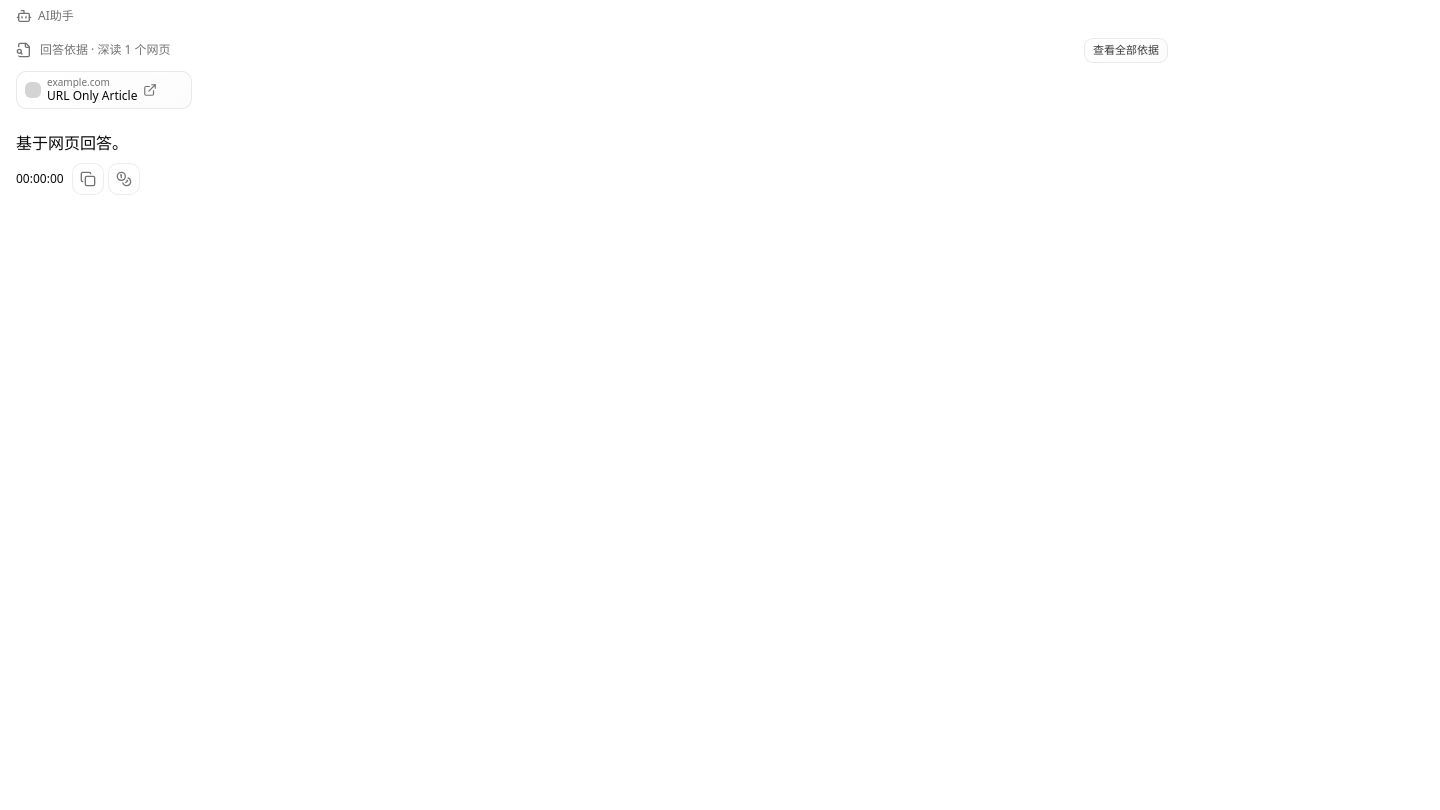
it: ChatMessage › URL-only 回答通过真实回答依据入口打开统一侧栏
Click the button "查看全部依据". click: (1126,50)
box: [1084,38,1168,62]
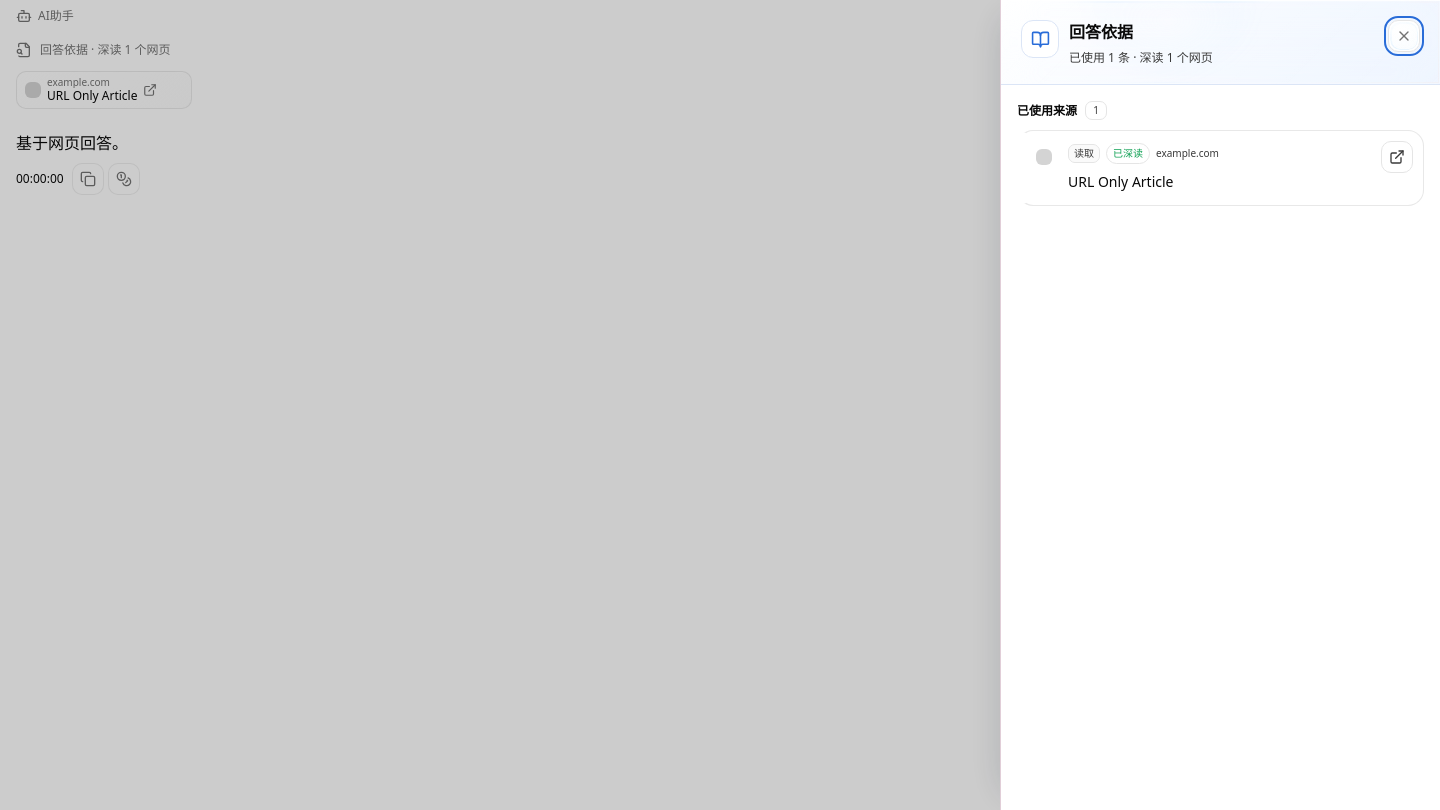
Expected: the dialog "回答依据" is shown, [1000,0,1439,809]
